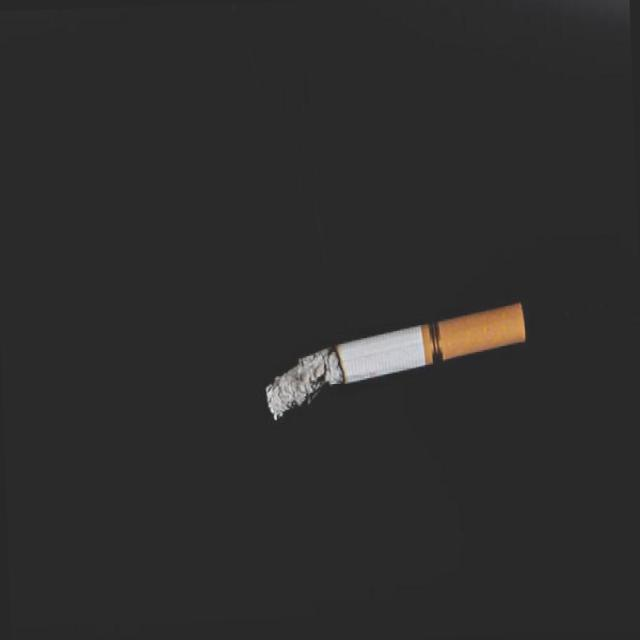cigarette: (259, 296, 528, 424)
